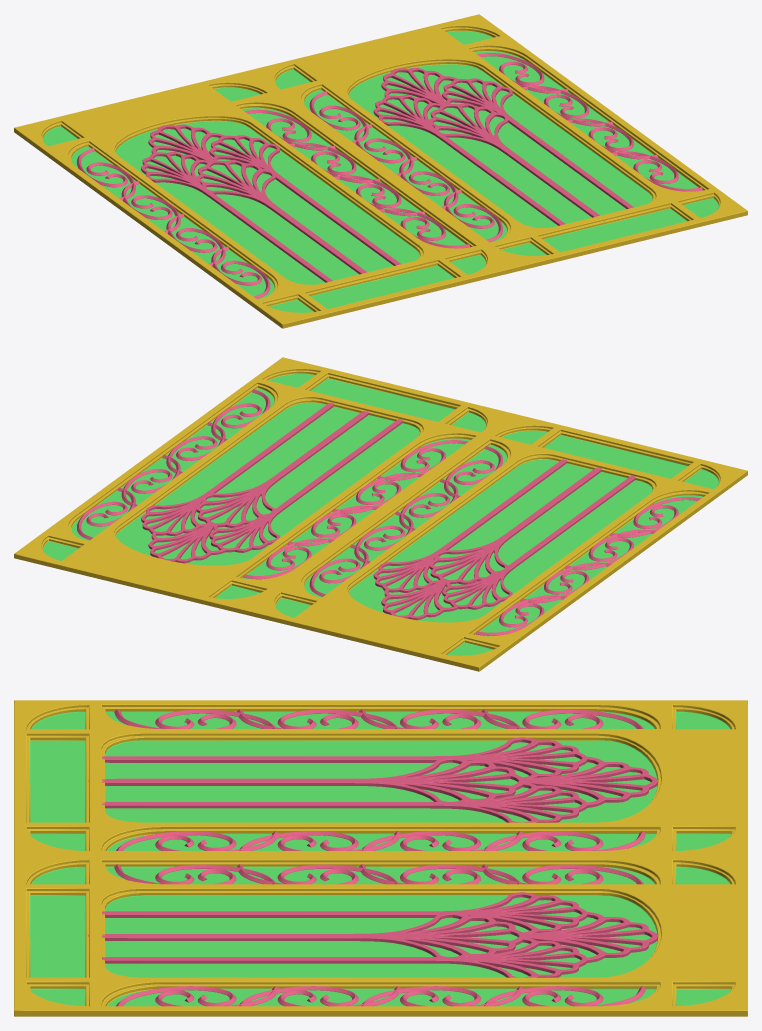
File: FancyWallTexture_high.fbx
3 renders of one model, top to bottom at view 1: azimuth 30°, elevation 25°; view 2: azimuth 150°, elevation 25°; view 3: azimuth 270°, elevation 25°, orthographic. The views are drawn at different scales.
Parts seen in each view (by area): view 1: Plane.018; view 2: Plane.018; view 3: Plane.018.
Boxes of the visible parts, x1,y1,x2,y2 form: Plane.018: [14, 14, 747, 328]; Plane.018: [14, 357, 747, 671]; Plane.018: [14, 700, 747, 1016].
Bounding box in the file's own units: 200 × 2.73 × 200.
